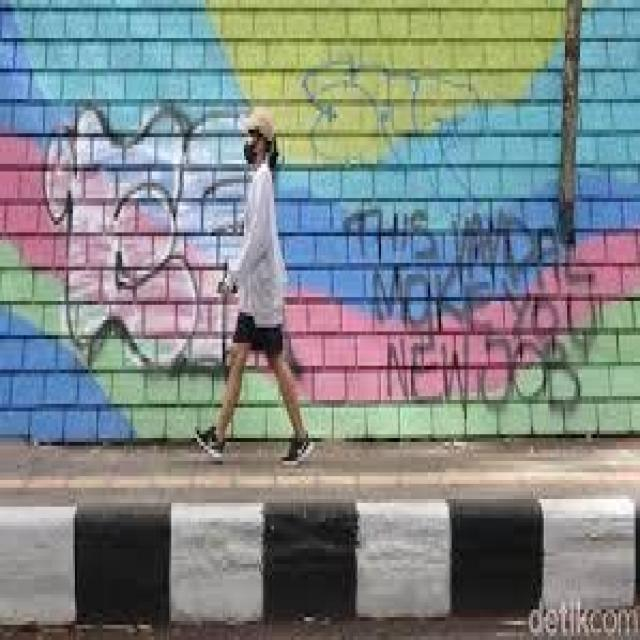nonspitting: (45, 99, 306, 378), (342, 202, 598, 414)
